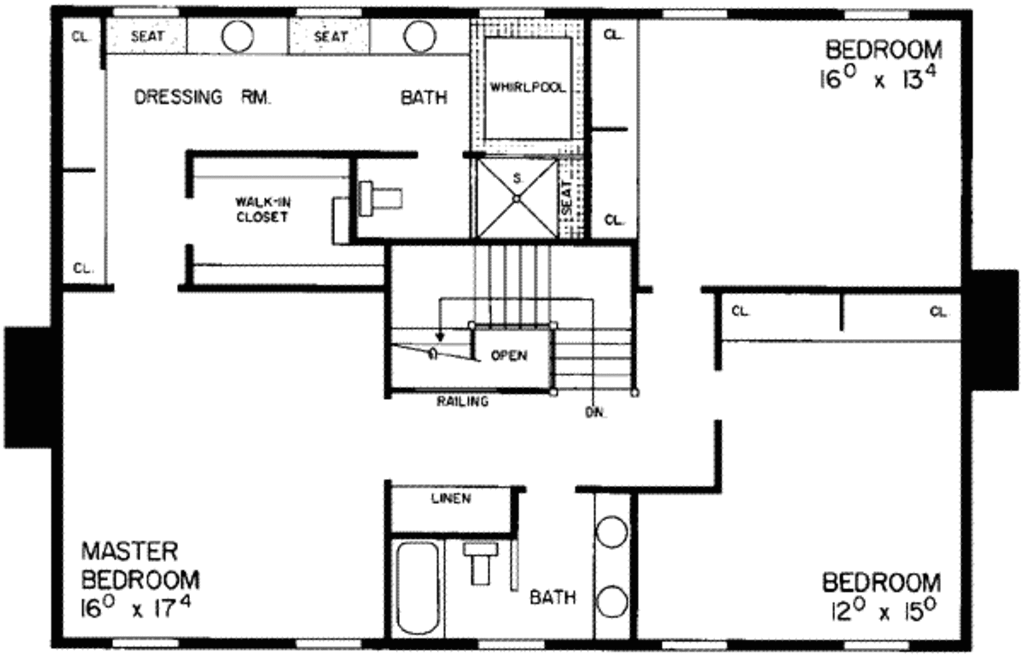large_sink: (351, 171, 412, 218), (460, 541, 508, 589)
small_sink: (595, 485, 631, 643), (182, 13, 293, 58), (366, 18, 470, 57)
stairs: (381, 239, 638, 422)
tub: (384, 533, 443, 644)
windows: (103, 628, 180, 654), (832, 2, 912, 25), (282, 633, 365, 654), (471, 633, 548, 655), (656, 4, 730, 24), (839, 635, 910, 654), (657, 635, 734, 652)
